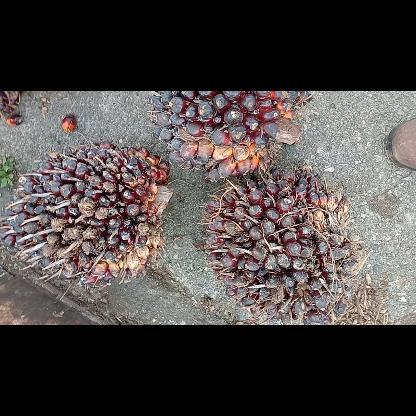TBS mentah: (203, 166, 363, 324), (0, 141, 170, 282), (148, 90, 314, 178)
